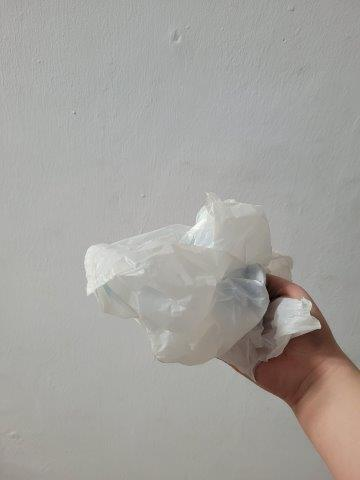plastik: (84, 191, 323, 375)
